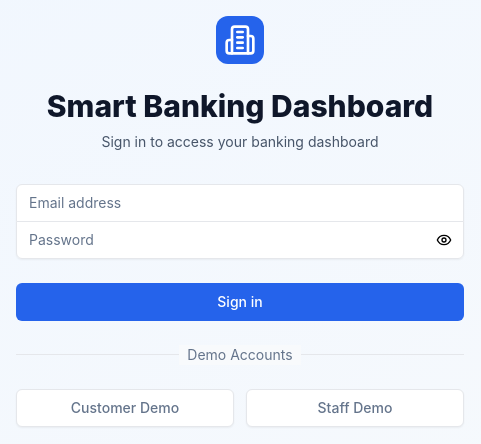
Scenario: Login Component › fills form with staff demo credentials
Click the button "Staff Demo": (355, 408) [246,388,464,426]
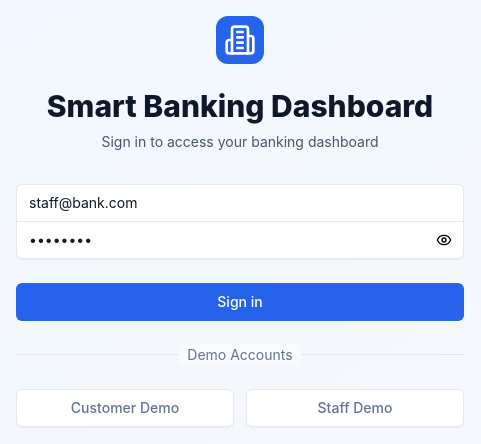
Expected: the field with placeholder "Email address" holds "staff@bank.com", [16,184,464,222]
Expected: the password field with placeholder "Password" holds "staff123", [16,220,464,258]
